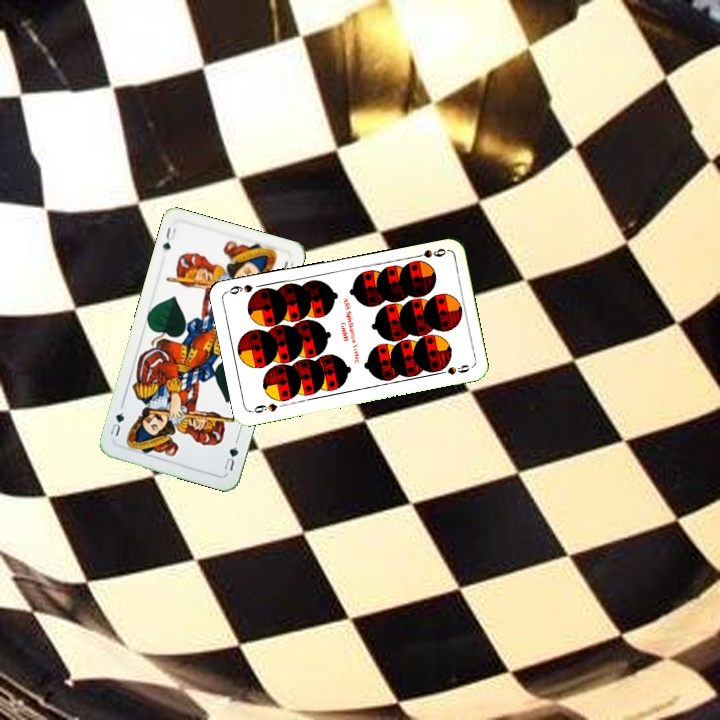GU: (158, 223, 179, 255), (220, 442, 241, 473)
S9: (409, 244, 449, 261), (247, 399, 280, 416)
